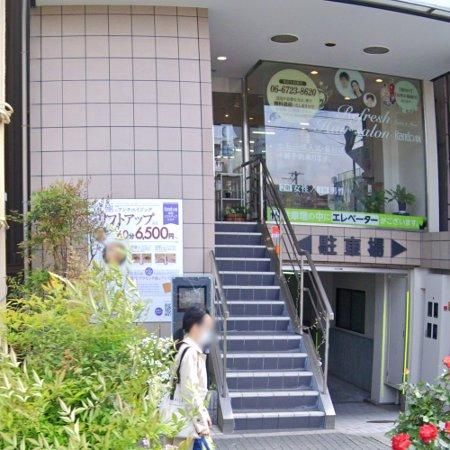stairs: (216, 222, 335, 432)
